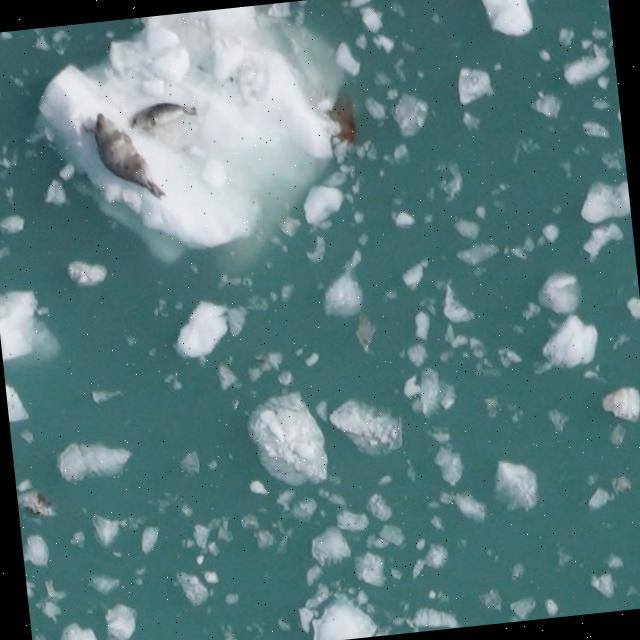seal: (95, 112, 167, 198), (132, 104, 194, 130)
